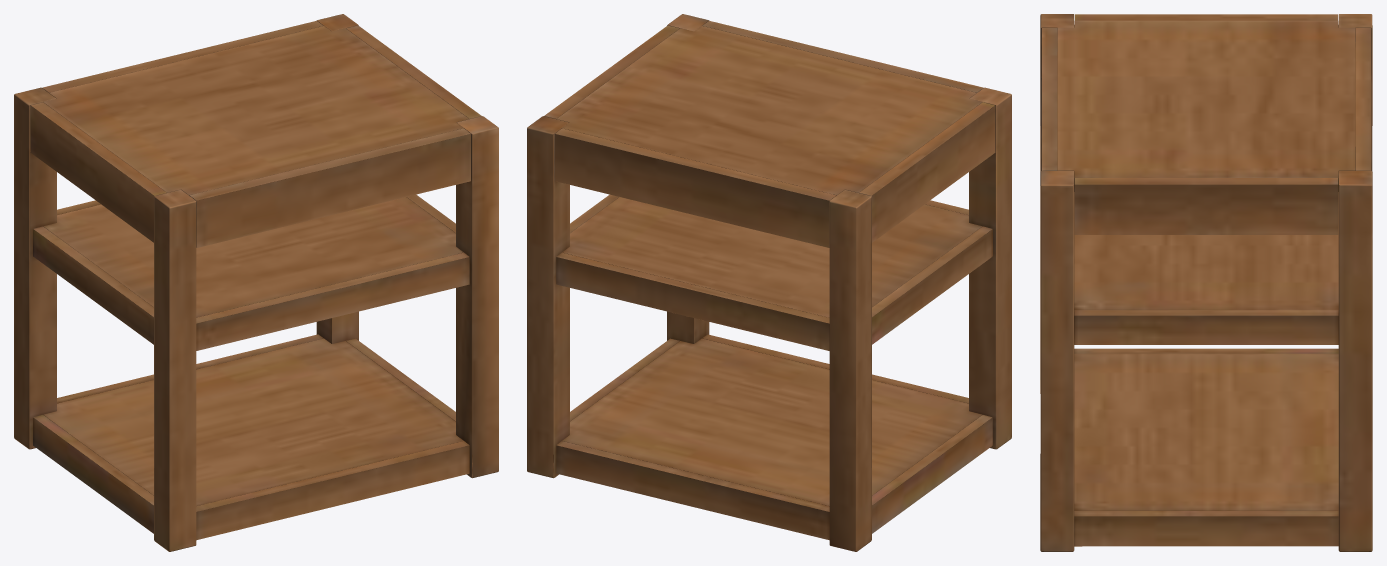
Rendered from side_table.glb.
The picture shows the model from 3 angles, left to right: view 1: azimuth 30°, elevation 25°; view 2: azimuth 150°, elevation 25°; view 3: azimuth 270°, elevation 25°; orthographic projection. The views are drawn at different scales.
Parts seen in each view (by area): view 1: side_table_01; view 2: side_table_01; view 3: side_table_01.
Boxes of the visible parts, <box> form: side_table_01: <box>14,14,498,551</box>; side_table_01: <box>527,14,1011,551</box>; side_table_01: <box>1040,14,1372,551</box>.
Bounding box in the file's own units: 0.55 × 0.5507 × 0.45.
1 material, 1 textured.
